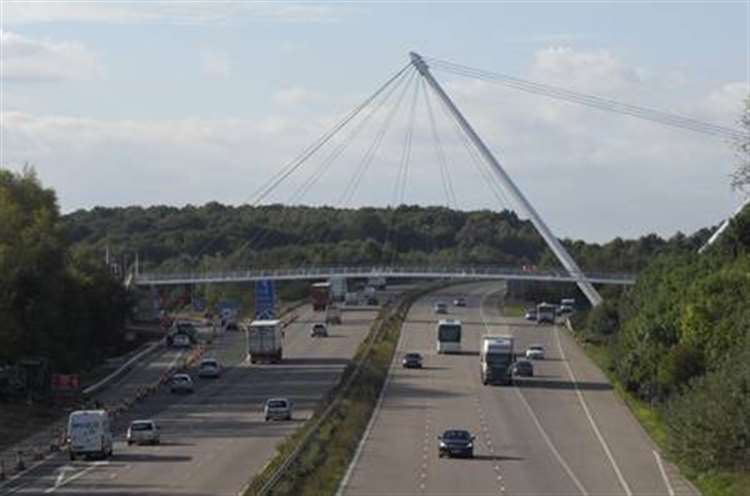bridge: (123, 252, 637, 301)
